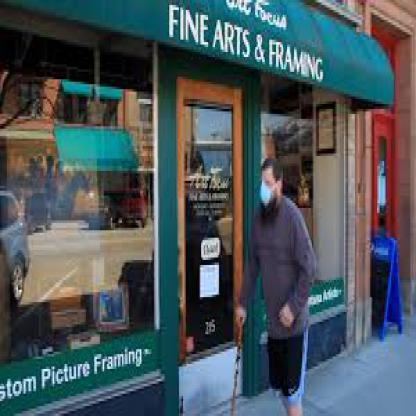Wearing_Mask: (256, 161, 278, 228)
